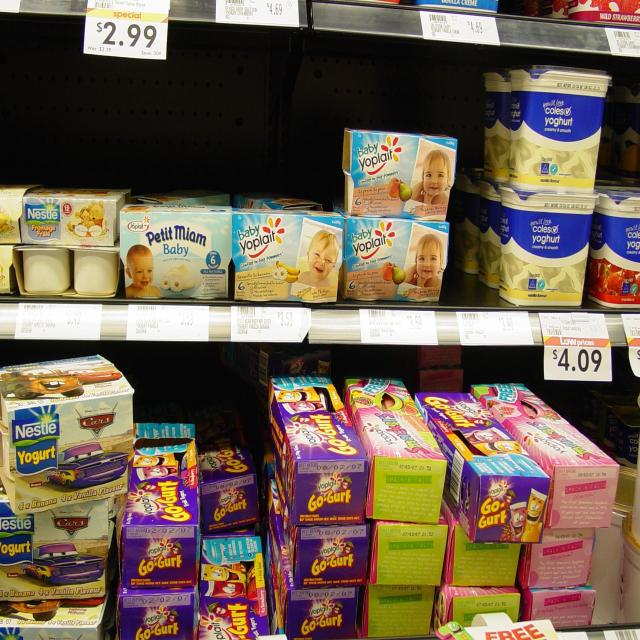empty_space: (12, 77, 328, 185), (458, 182, 494, 296)
